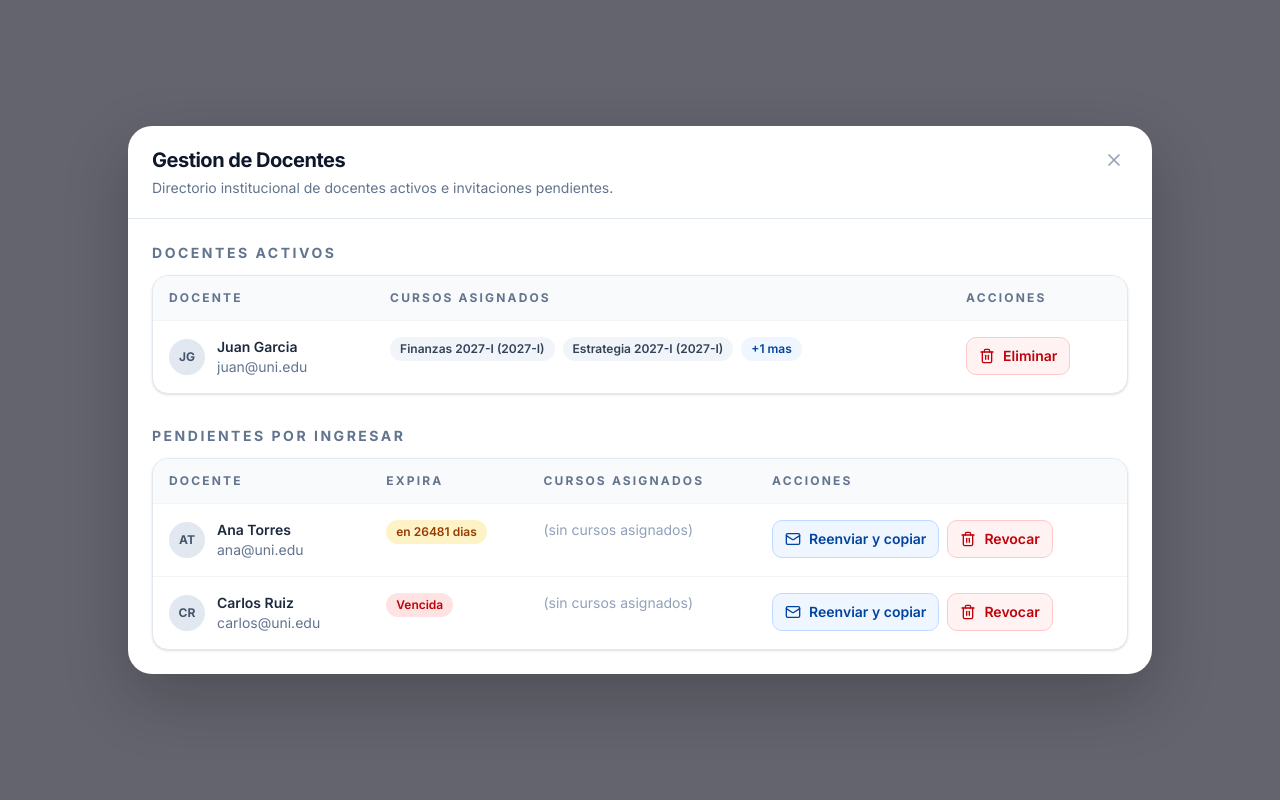
Test: TeacherDirectoryModal › resends invite, copies absolute link, shows toast and refreshes teacher directory
Expected: the text "Ana Torres" is shown, [217, 520, 304, 540]
Click the button "Reenviar y copiar" in the row of "Ana Torres": (856, 539) [772, 520, 939, 558]
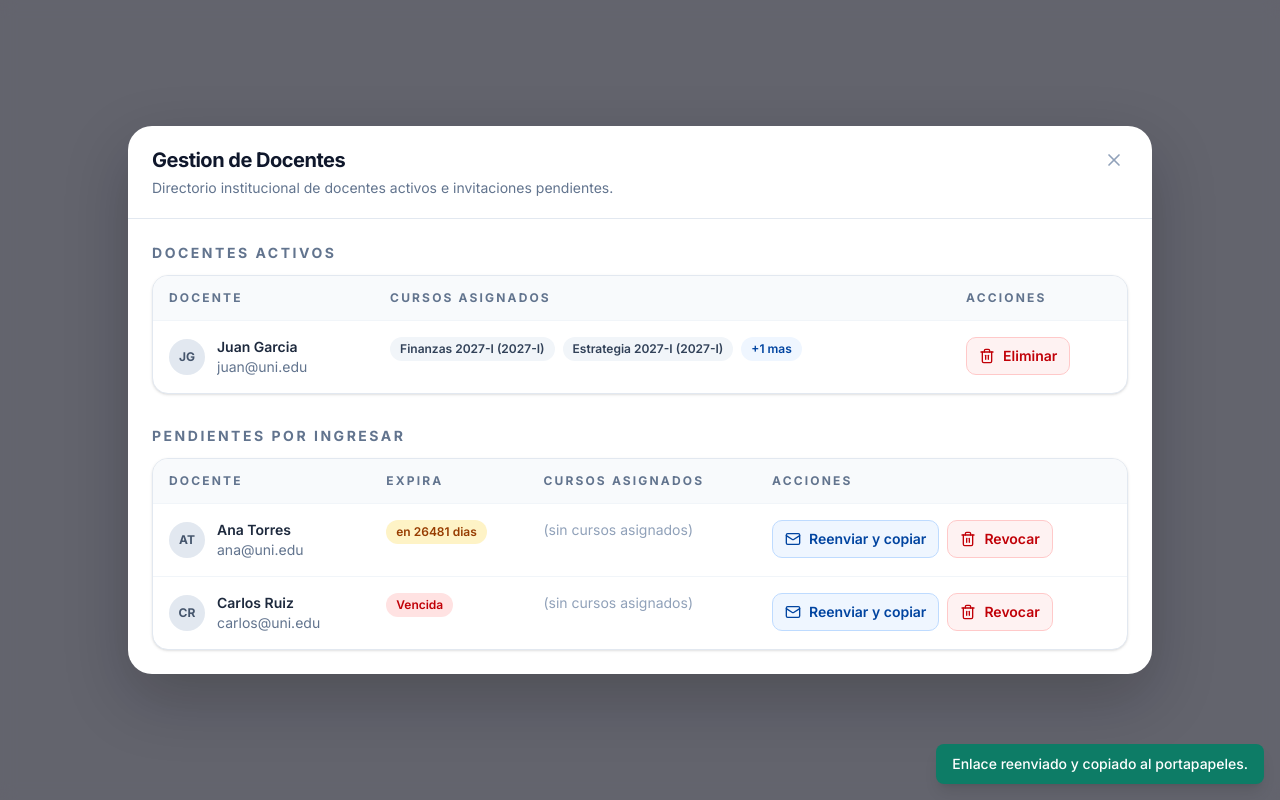
Expected: the message reads "Enlace reenviado y copiado al portapapeles.", [952, 755, 1248, 772]
